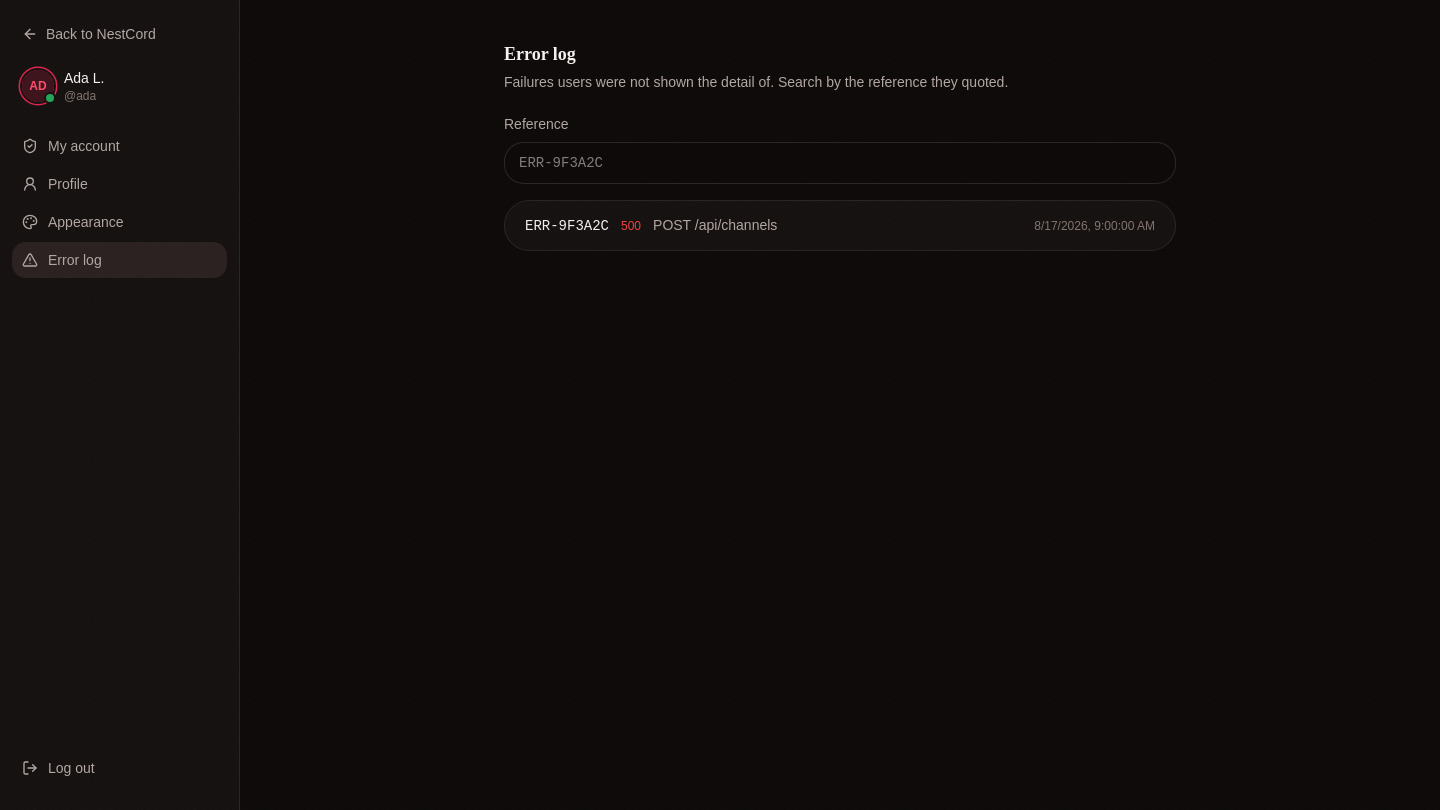
Test case: the error log › says plainly when a reference matches nothing
Type "ERR-000000" into the field labelled "Reference" at x=840, y=163, box [504,142,1176,184]
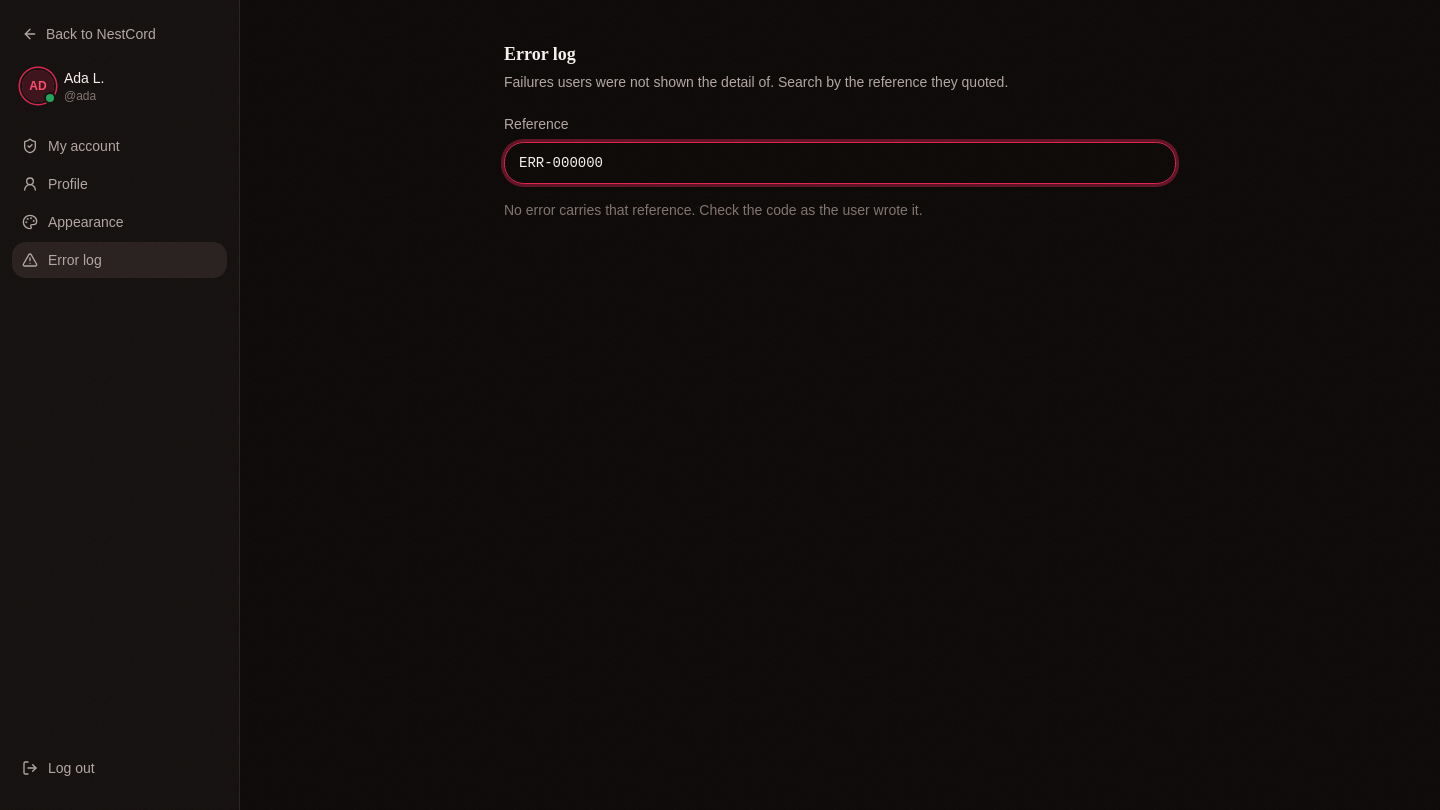
Now the text "No error carries that reference" is shown, box [504,202,923,218]
